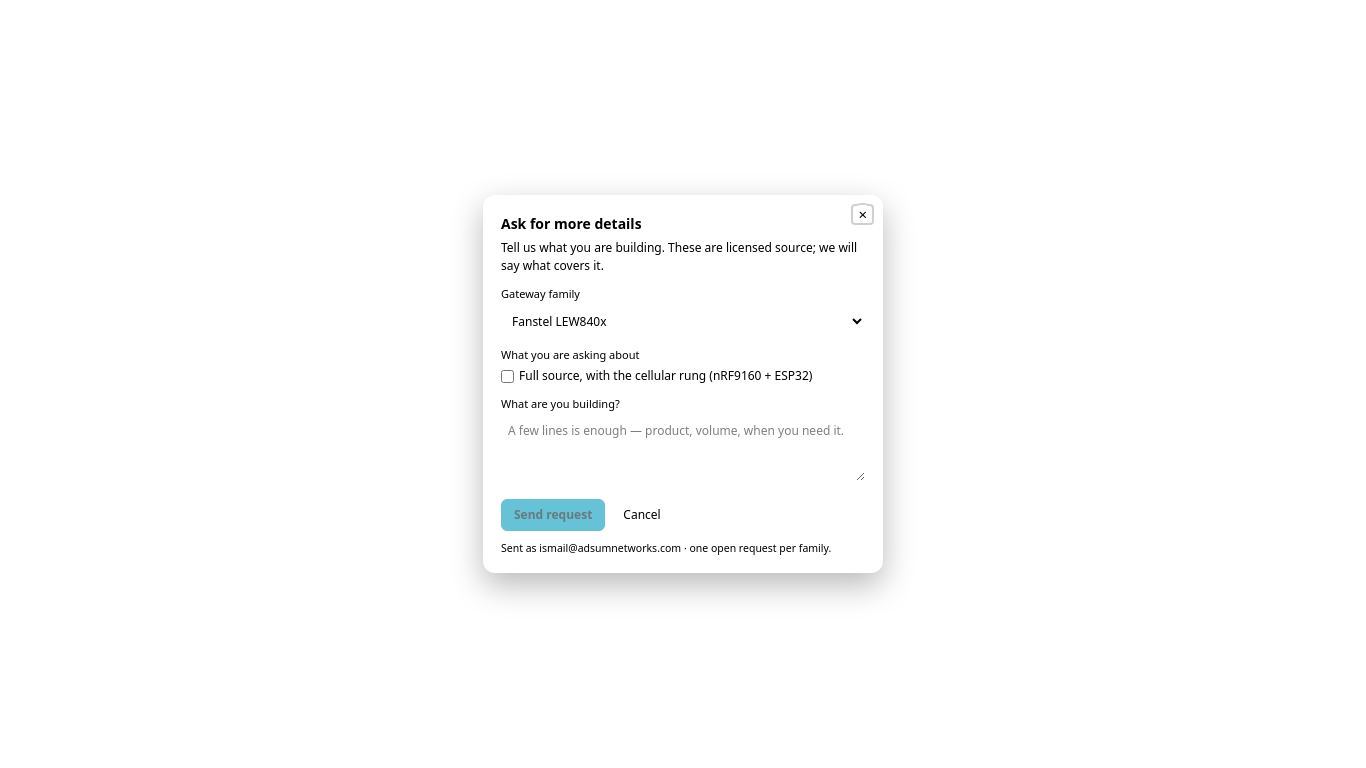
Test case: W — asking, and the account tab › W-15b a second request for the same family says which case it hit, not a generic failure
Expected: the button with test id "request-send" is disabled, [501,499,605,531]
Click the checkbox with test id "request-chip-9160-src" at {"x": 508, "y": 376}, box [501,370,514,383]
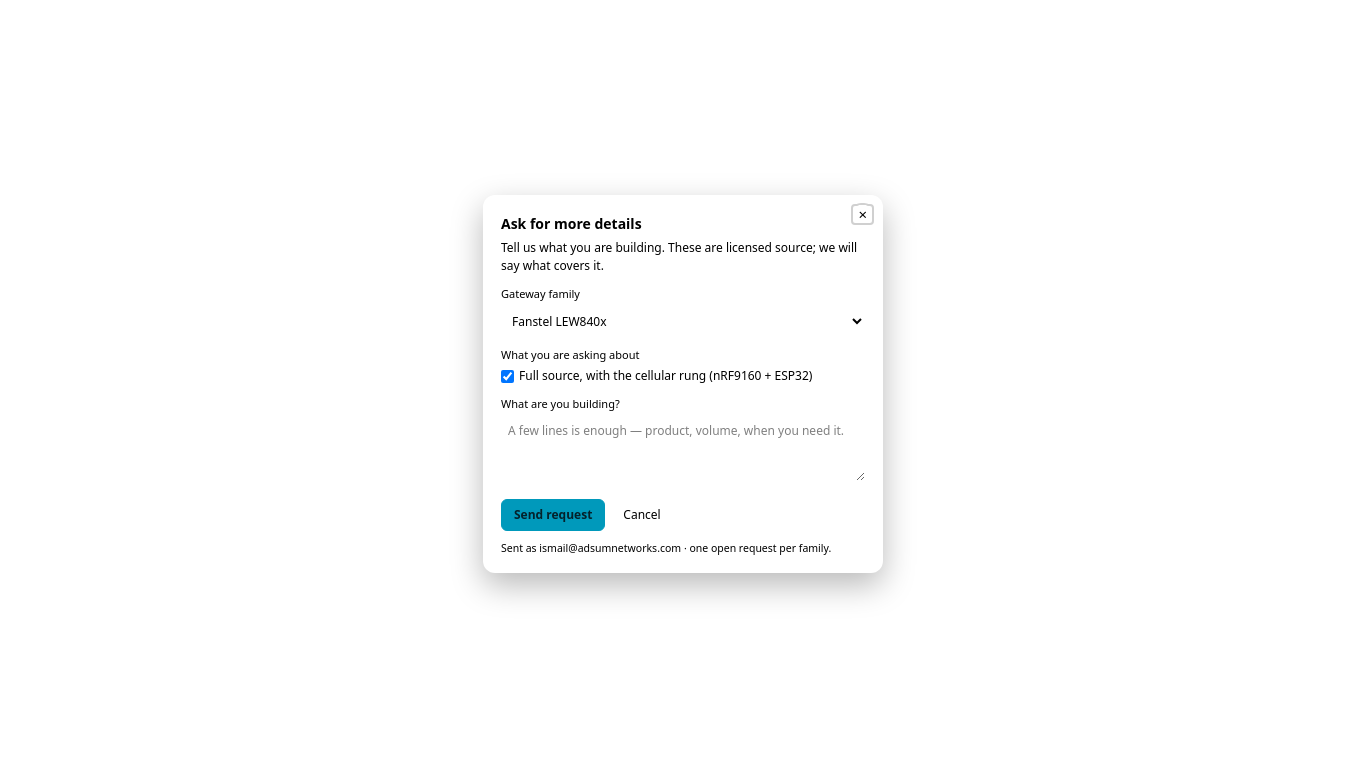
Click the button with test id "request-send" at {"x": 553, "y": 515}, box [501,499,605,531]
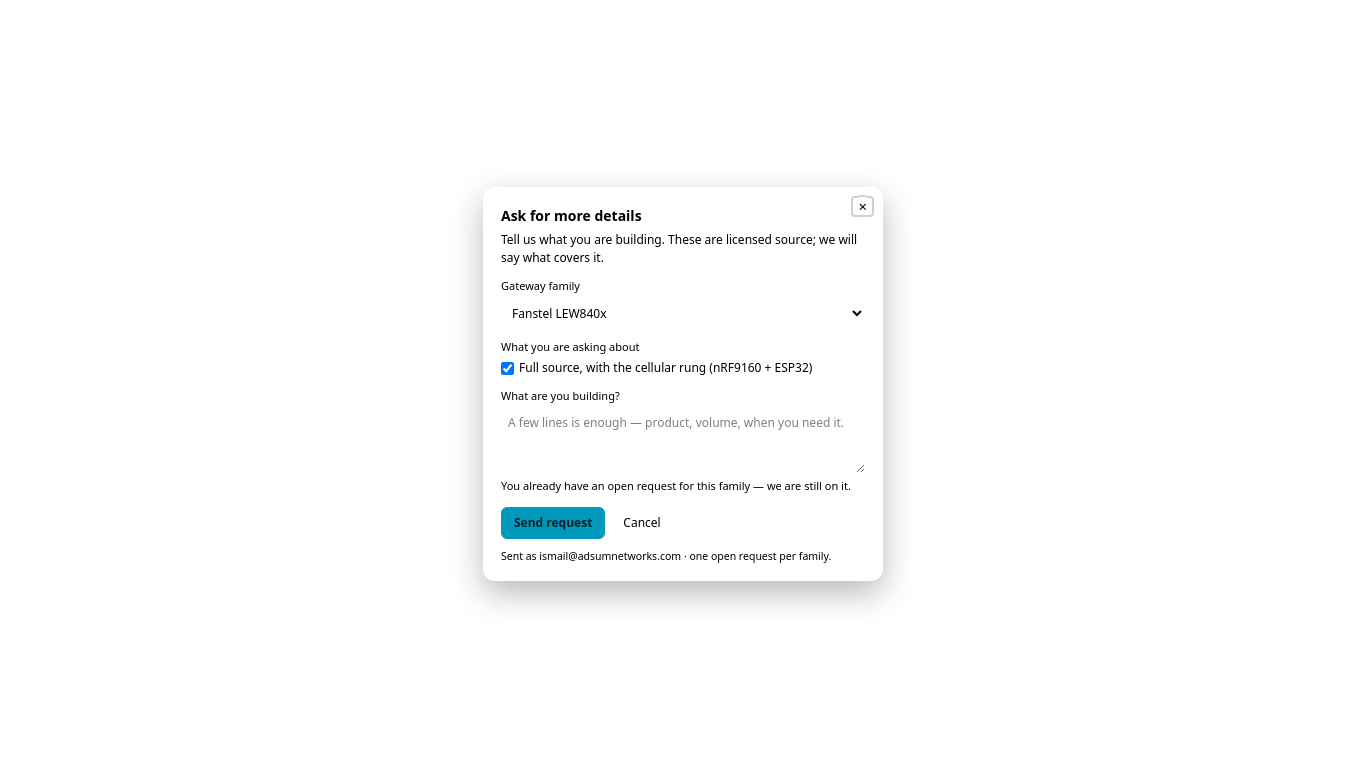
Now the text with test id "request-error" reads "You already have an open request for this family — we are still on it.", box [501,478,851,493]
Click the button with test id "request-send" at {"x": 553, "y": 523}, box [501,507,605,539]
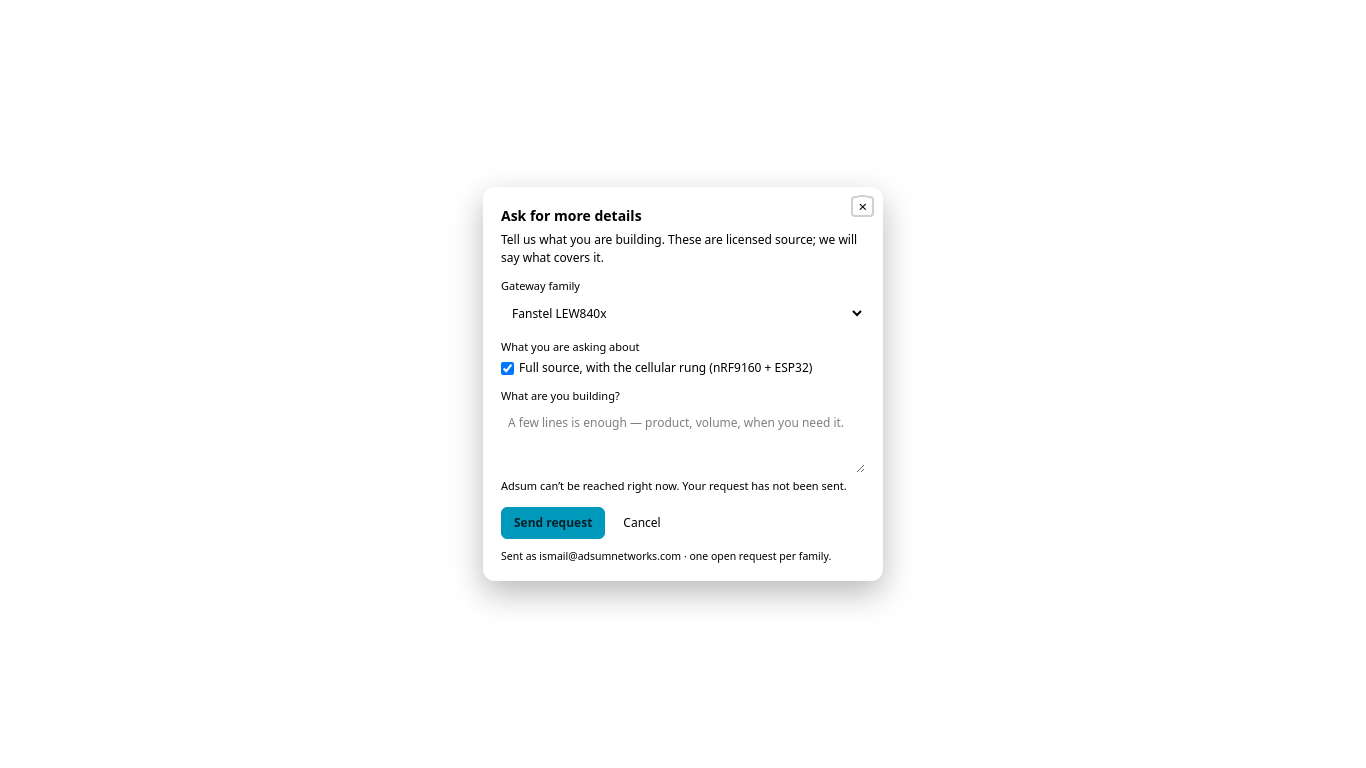
Now the text with test id "request-error" shows "has not been sent", box [501,478,847,493]
Click the button with test id "request-send" at {"x": 553, "y": 523}, box [501,507,605,539]
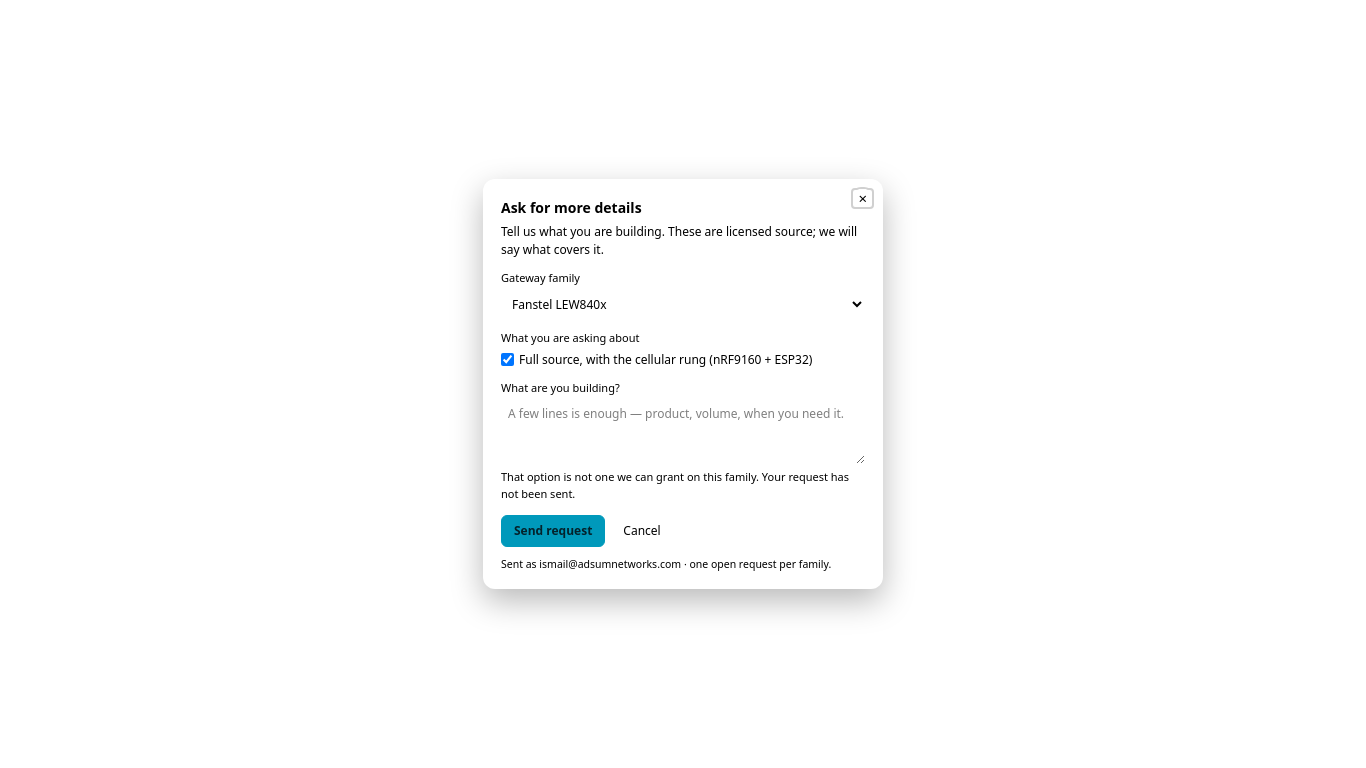
Now the text with test id "request-error" shows "not one we can grant", box [501,469,849,501]
